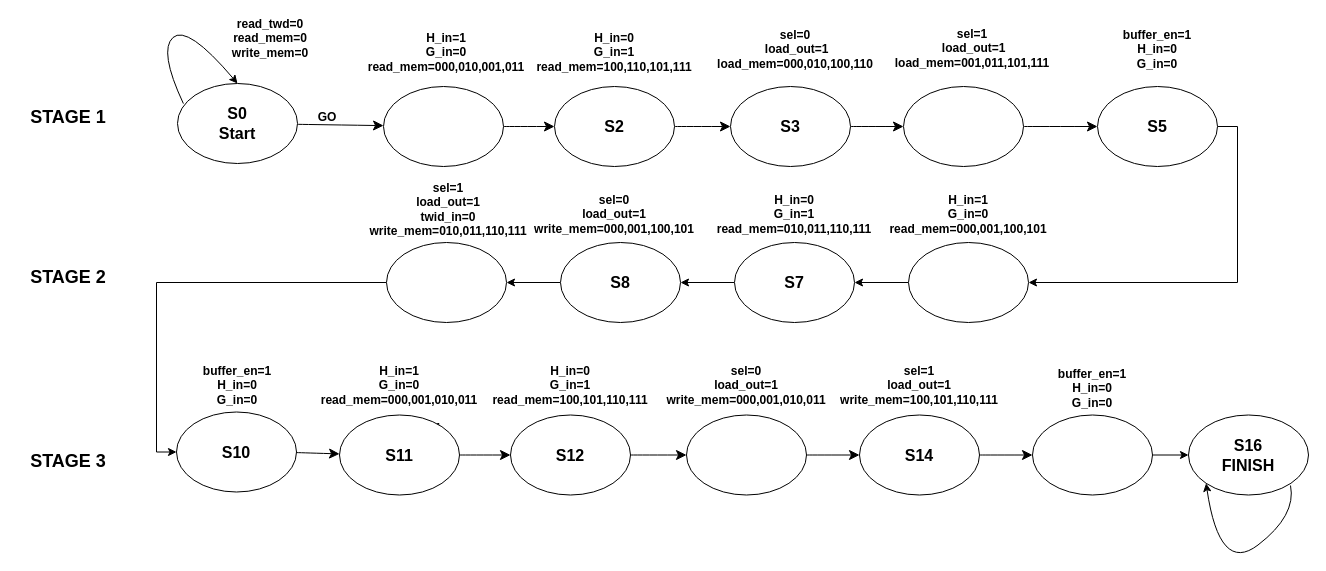
This 1326x571 diagram has some shape labels left out. Each missing label, with the centre of its shape:
"S1" belongs at (x=443, y=126).
"S13" belongs at (x=746, y=454).
"S15" belongs at (x=1092, y=454).
"S4" belongs at (x=963, y=126).
"S6" belongs at (x=968, y=282).
"S9" belongs at (x=446, y=282).
